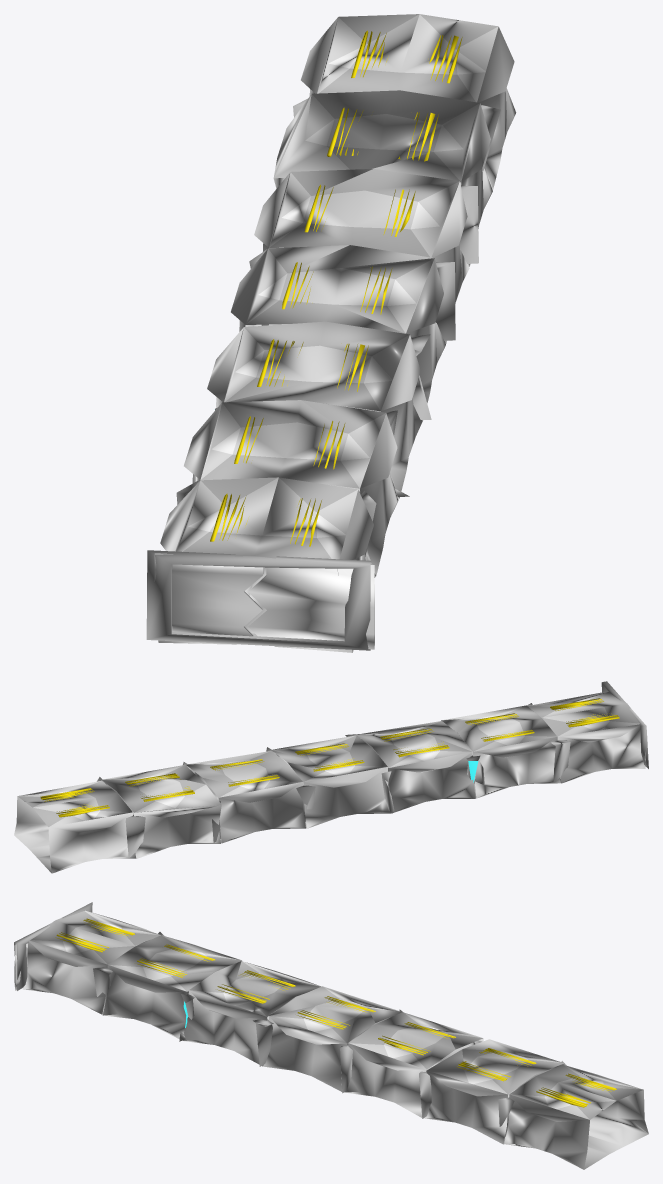
File: MainMenuEnvironmentSuperDecimated.fbx
The picture shows the model from 3 angles, top to bottom: view 1: azimuth 30°, elevation 25°; view 2: azimuth 150°, elevation 25°; view 3: azimuth 270°, elevation 25°; orthographic projection. The views are drawn at different scales.
Parts seen in each view (by area): view 1: Sci_fi_corridor, frame, door_2, pipes, door_1; view 2: Sci_fi_corridor, pipes, frame; view 3: Sci_fi_corridor, pipes, frame.
Part boxes in pixels (box(x1,y1,x2,y2)): Sci_fi_corridor: box(158, 14, 516, 652); frame: box(146, 550, 371, 650); door_2: box(248, 565, 374, 649); pipes: box(210, 30, 462, 546); door_1: box(154, 553, 263, 636); Sci_fi_corridor: box(14, 691, 645, 873); pipes: box(40, 698, 619, 817); frame: box(601, 681, 648, 768); Sci_fi_corridor: box(22, 910, 648, 1169); pipes: box(55, 918, 616, 1107); frame: box(14, 902, 92, 990).
Bounding box in the file's own units: 7686 × 855 × 9404.
